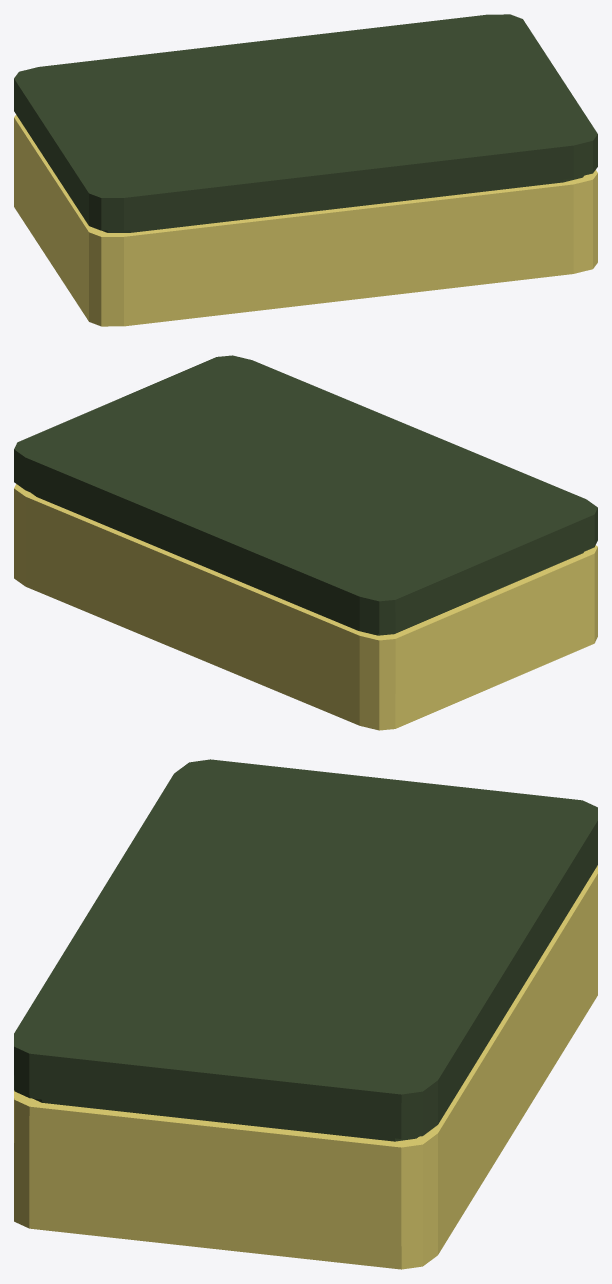
The model's file is Sponge.fbx.
3 views of the same model, one above another, from view 1: azimuth 30°, elevation 25°; view 2: azimuth 150°, elevation 25°; view 3: azimuth 270°, elevation 25° (orthographic). The views are drawn at different scales.
Visible parts, largest first — view 1: Sponge.001; view 2: Sponge.001; view 3: Sponge.001.
Part boxes in pixels (bbox=[...]): Sponge.001: bbox=[14, 14, 597, 326]; Sponge.001: bbox=[14, 355, 597, 730]; Sponge.001: bbox=[14, 759, 597, 1269].
Bounding box in the file's own units: 1.89 × 0.4602 × 1.39.
